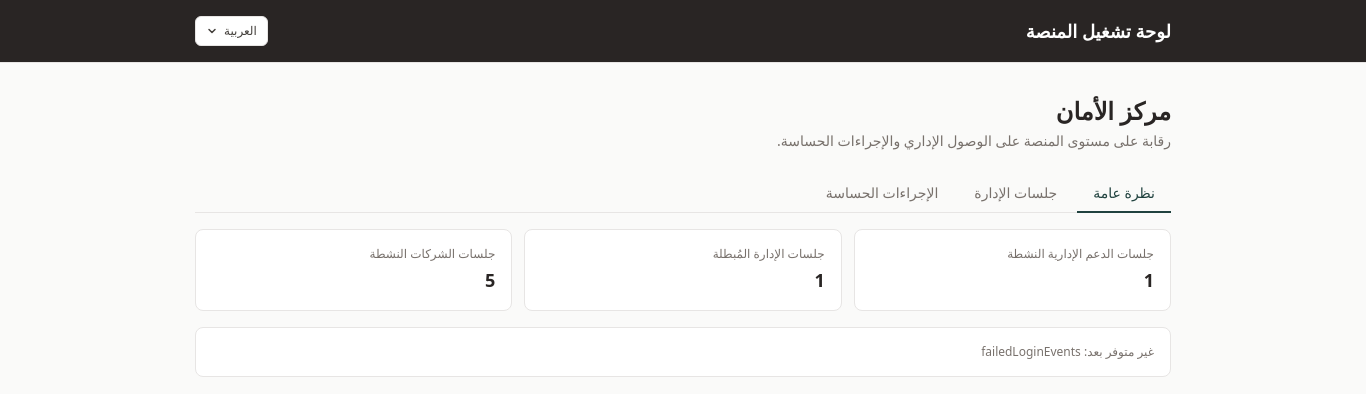
Test case: <PlatformSecurity/> › switches to the sensitive actions tab and loads its feed
Expected: the text "5" is shown, top-left (485, 268), bottom-right (495, 292)
What coordinates should you click on to do the following:
click the tab "الإجراءات الحساسة"
I would click on:
 (882, 194)
Its box is top-left (810, 175), bottom-right (954, 213).
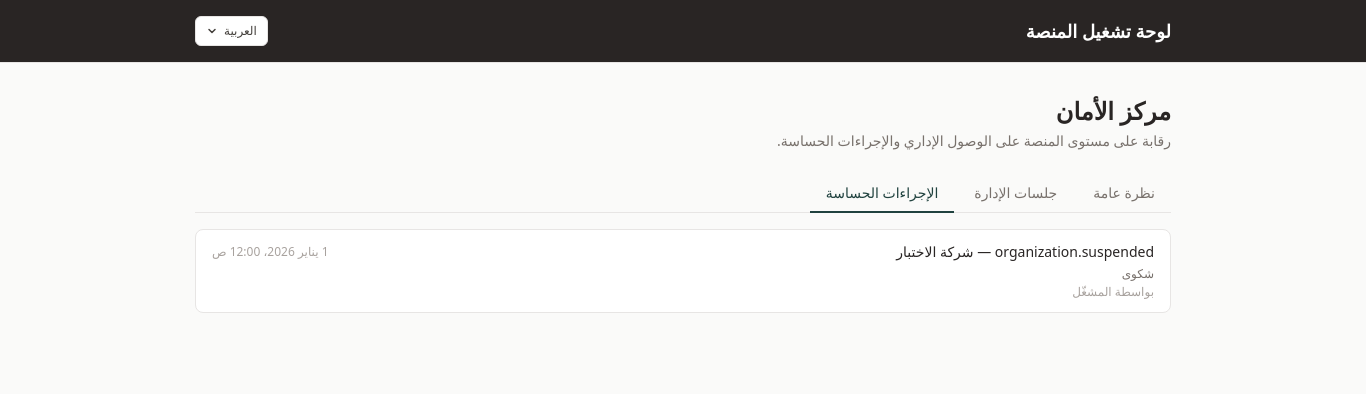
Now the text "organization.suspended — شركة الاختبار" is shown, box top-left (896, 242), bottom-right (1154, 262)
